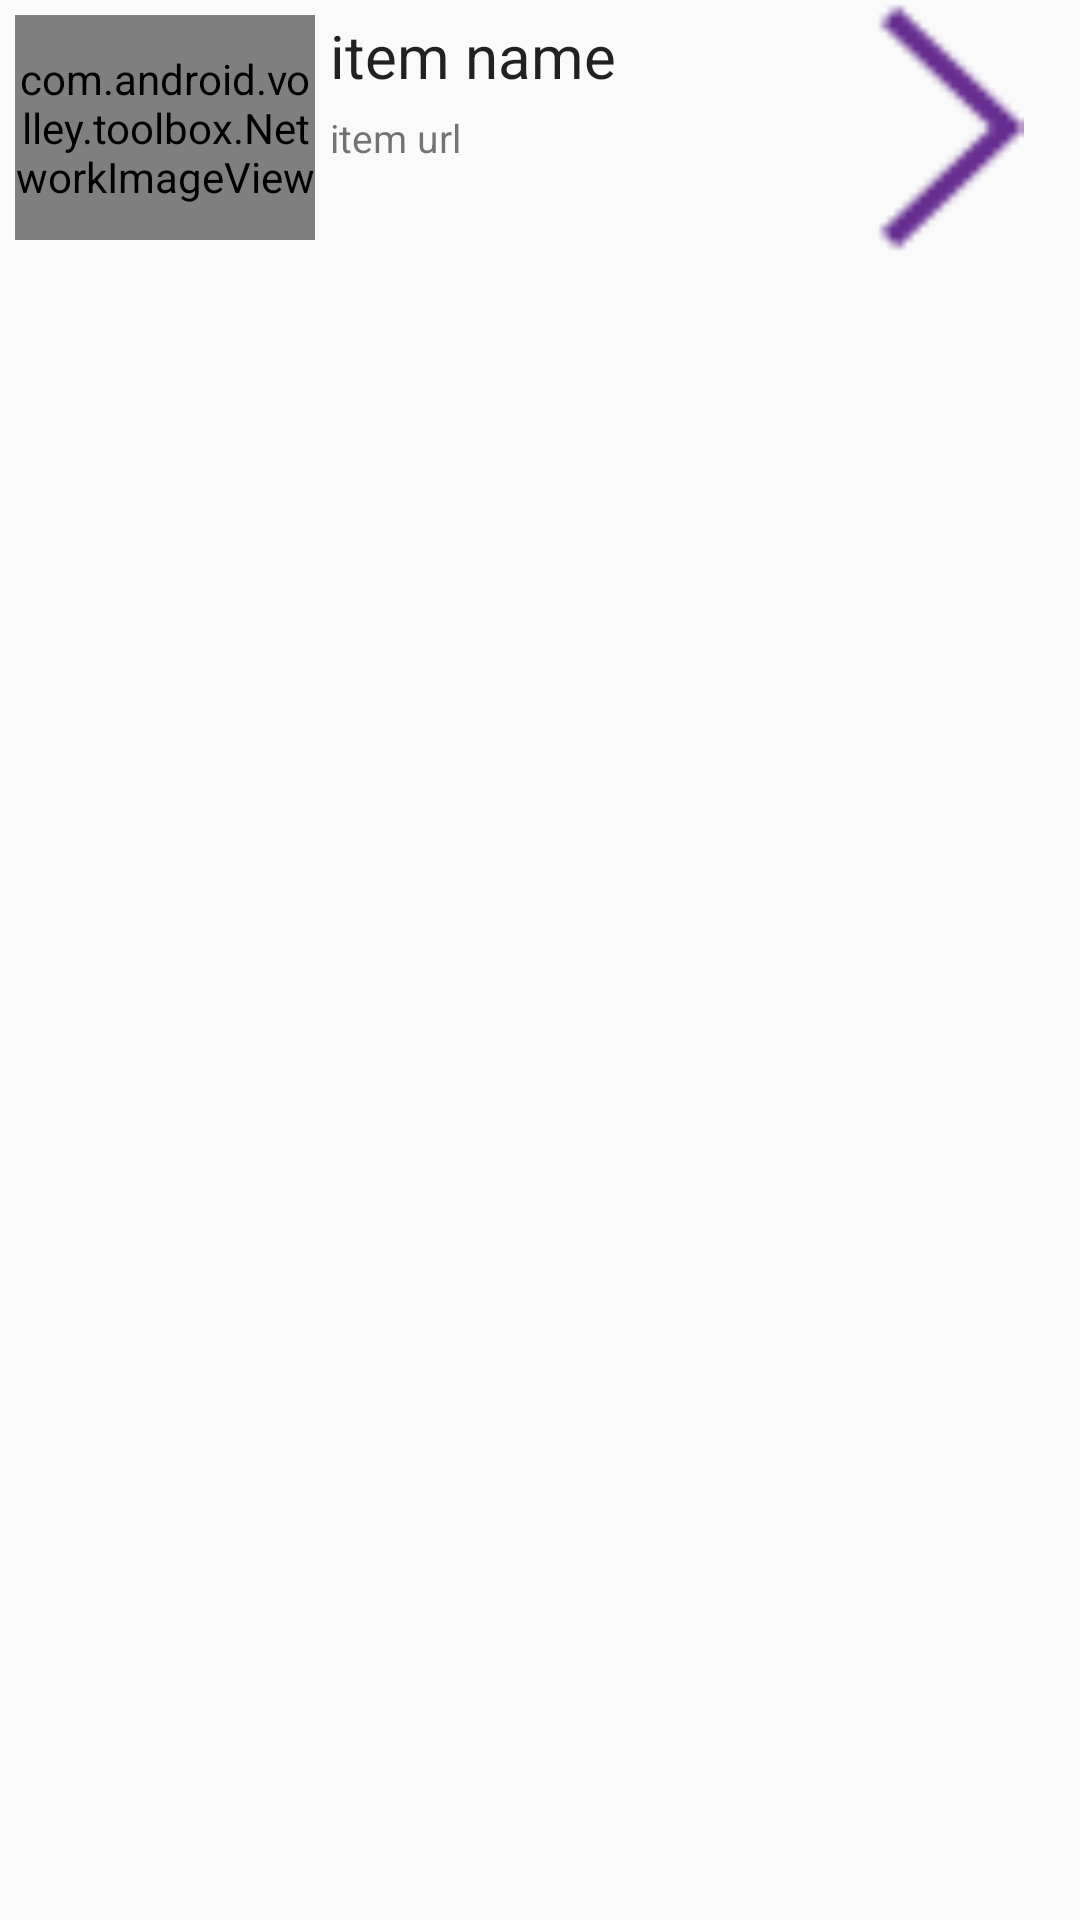

Locate icon controls on the screen. Image size 1080px x 1920px, boxes as (x1, y1, x2, y2).
arrow right: (879, 5, 1024, 250)
